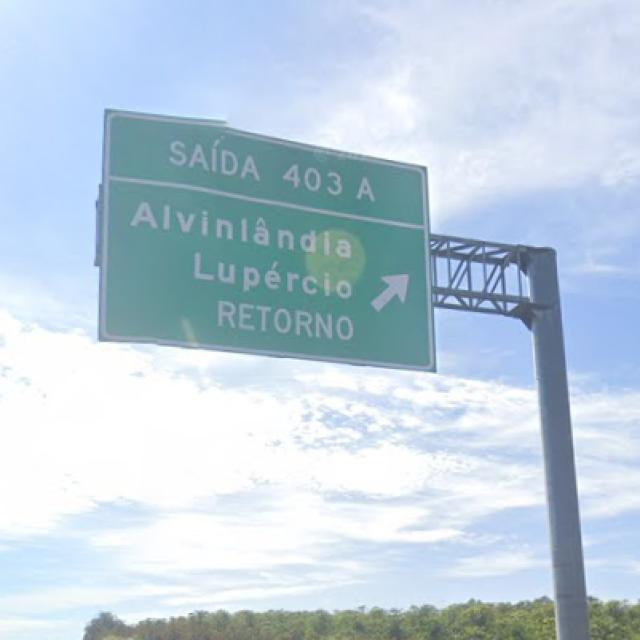indication: (80, 83, 463, 416)
